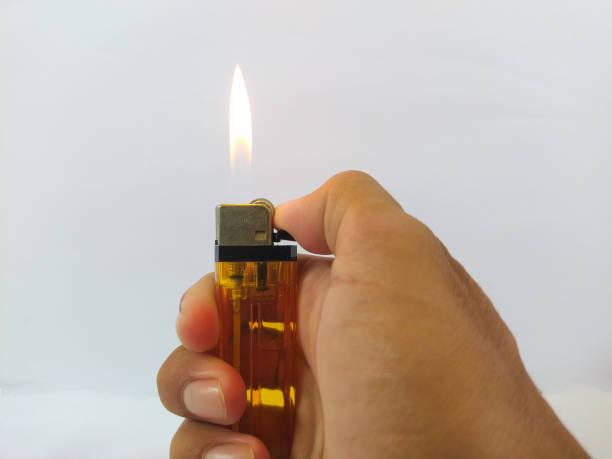Fire: (224, 60, 261, 196)
